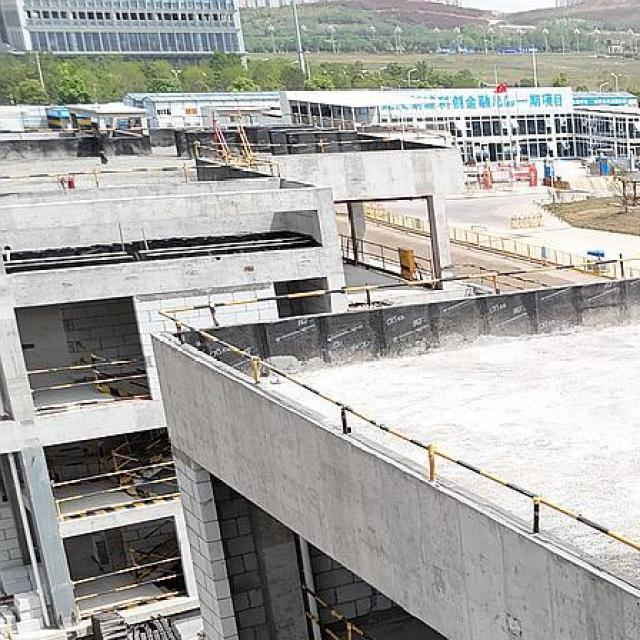edge_guardrail: (157, 251, 640, 640), (0, 141, 276, 188), (51, 460, 180, 520), (70, 554, 186, 619), (26, 355, 151, 412), (211, 133, 448, 156), (300, 585, 375, 640), (356, 237, 401, 270), (412, 254, 435, 289), (337, 233, 350, 258)
